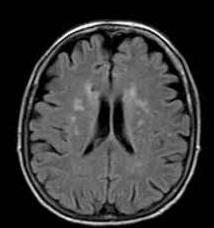Normal_Brain: (1, 2, 214, 228)
